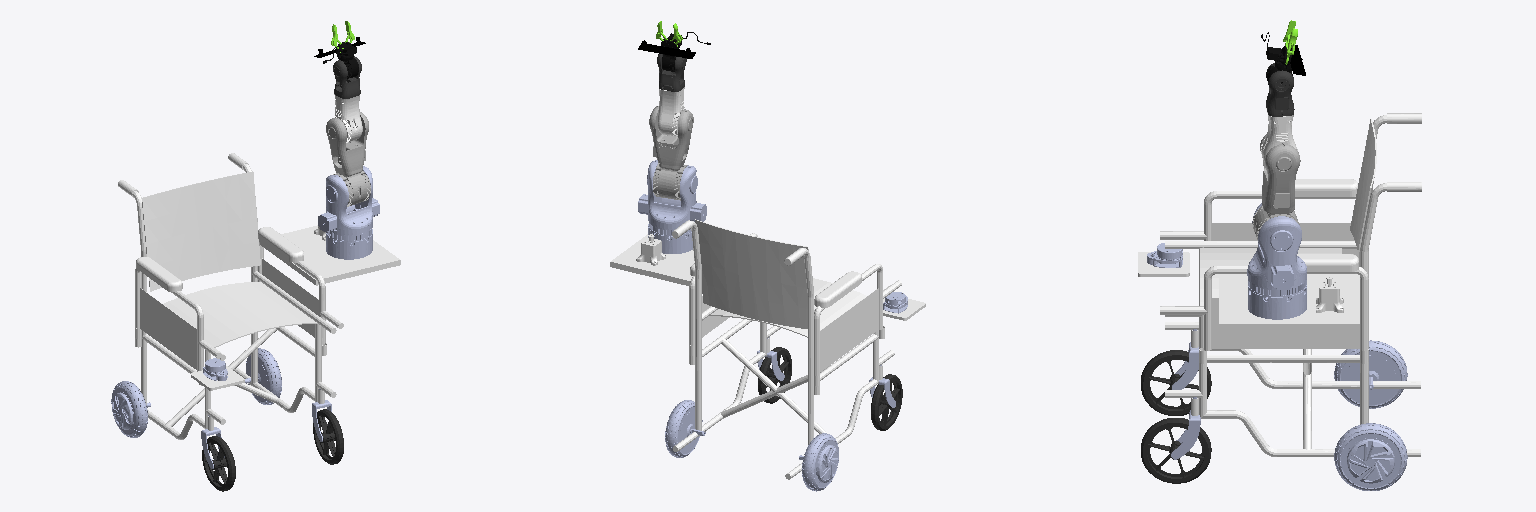
URDF robot description (wheel_robot):
<?xml version="1.0" encoding="utf-8"?>
<!-- This URDF was automatically created by SolidWorks to URDF Exporter! Originally created by Stephen Brawner (brawner@gmail.com) 
     Commit Version: 1.6.0-4-g7f85cfe  Build Version: 1.6.7995.38578
     For more information, please see http://wiki.ros.org/sw_urdf_exporter -->
<robot name="wheel_robot" xmlns:xacro="http://www.ros.org/wiki/xacro">
  <link name="base_link">
    <inertial>
      <origin xyz="0.034703 -0.030762 0.4133" rpy="0 0 0" />
      <mass value="29.169" />
      <inertia ixx="1.8151" ixy="6.2642E-05" ixz="-3.4057E-05" iyy="2.0404" iyz="-0.15331" izz="1.8019" />
    </inertial>
    <visual>
      <origin xyz="0 0 0" rpy="0 0 0" />
      <geometry>
        <mesh filename="package://my_robot_description/meshes/wheel_robot_meshes/base_link.STL" />
      </geometry>
      <material name="">
        <color rgba="1 1 1 1" />
      </material>
    </visual>
    <collision>
      <origin xyz="0 0 0" rpy="0 0 0" />
      <geometry>
        <mesh filename="package://my_robot_description/meshes/wheel_robot_meshes/base_link.STL" />
      </geometry>
    </collision>
  </link>
  <link name="base_arm_link">
    <inertial>
      <origin xyz="-1.3127E-05 2.693E-05 0.033518" rpy="0 0 0" />
      <mass value="4.8005" />
      <inertia ixx="0.010588" ixy="0.00016585" ixz="-3.0501E-07" iyy="0.0095576" iyz="-2.8798E-07" izz="0.0096309" />
    </inertial>
    <visual>
      <origin xyz="0 0 0" rpy="0 0 0" />
      <geometry>
        <mesh filename="package://my_robot_description/meshes/wheel_robot_meshes/base_arm_link.STL" />
      </geometry>
      <material name="">
        <color rgba="0.79216 0.81961 0.93333 1" />
      </material>
    </visual>
    <collision>
      <origin xyz="0 0 0" rpy="0 0 0" />
      <geometry>
        <mesh filename="package://my_robot_description/meshes/wheel_robot_meshes/base_arm_link.STL" />
      </geometry>
    </collision>
  </link>
  <joint name="base_arm_joint" type="continuous">
    <origin xyz="0.4509 -0.092225 0.72154" rpy="0 0 -1.5708" />
    <parent link="base_link" />
    <child link="base_arm_link" />
    <axis xyz="0 0 -1" />
  </joint>
  <link name="shoulder_link">
    <inertial>
      <origin xyz="-0.0031383 0.0013275 0.079004" rpy="0 0 0" />
      <mass value="1.9087" />
      <inertia ixx="0.0049688" ixy="1.8849E-05" ixz="7.3395E-05" iyy="0.0048564" iyz="2.1387E-05" izz="0.0028977" />
    </inertial>
    <visual>
      <origin xyz="0 0 0" rpy="0 0 0" />
      <geometry>
        <mesh filename="package://my_robot_description/meshes/wheel_robot_meshes/shoulder_link.STL" />
      </geometry>
      <material name="">
        <color rgba="0.75294 0.75294 0.75294 1" />
      </material>
    </visual>
    <collision>
      <origin xyz="0 0 0" rpy="0 0 0" />
      <geometry>
        <mesh filename="package://my_robot_description/meshes/wheel_robot_meshes/shoulder_link.STL" />
      </geometry>
    </collision>
  </link>
  <joint name="shoulder_joint" type="revolute">
    <origin xyz="0 0 0.1402" rpy="0 0 0" />
    <parent link="base_arm_link" />
    <child link="shoulder_link" />
    <axis xyz="0.15516 0.98789 0" />
    <limit lower="-1.8" upper="1.8" effort="0" velocity="0" />
  </joint>
  <link name="geared_link">
    <inertial>
      <origin xyz="-3.6626E-06 -0.00065071 0.037984" rpy="0 0 0" />
      <mass value="0.65465" />
      <inertia ixx="0.0016892" ixy="-4.2235E-05" ixz="3.7434E-07" iyy="0.0019515" iyz="-2.1176E-06" izz="0.00042425" />
    </inertial>
    <visual>
      <origin xyz="0 0 0" rpy="0 0 0" />
      <geometry>
        <mesh filename="package://my_robot_description/meshes/wheel_robot_meshes/geared_link.STL" />
      </geometry>
      <material name="">
        <color rgba="1 1 1 1" />
      </material>
    </visual>
    <collision>
      <origin xyz="0 0 0" rpy="0 0 0" />
      <geometry>
        <mesh filename="package://my_robot_description/meshes/wheel_robot_meshes/geared_link.STL" />
      </geometry>
    </collision>
  </link>
  <joint name="geared_joint" type="revolute">
    <origin xyz="-0.0079515 -0.0012489 0.22098" rpy="0 0 0" />
    <parent link="shoulder_link" />
    <child link="geared_link" />
    <axis xyz="-0.15516 0.98789 0" />
    <limit lower="-3.665" upper="3.665" effort="0" velocity="0" />
  </joint>
  <link name="arm_link">
    <inertial>
      <origin xyz="-0.0011585 0.010519 0.04396" rpy="0 0 0" />
      <mass value="0.61707" />
      <inertia ixx="0.00066348" ixy="1.0914E-05" ixz="9.9804E-06" iyy="0.0005735" iyz="5.7394E-07" izz="0.00036176" />
    </inertial>
    <visual>
      <origin xyz="0 0 0" rpy="0 0 0" />
      <geometry>
        <mesh filename="package://my_robot_description/meshes/wheel_robot_meshes/arm_link.STL" />
      </geometry>
      <material name="">
        <color rgba="0.29412 0.29412 0.29412 1" />
      </material>
    </visual>
    <collision>
      <origin xyz="0 0 0" rpy="0 0 0" />
      <geometry>
        <mesh filename="package://my_robot_description/meshes/wheel_robot_meshes/arm_link.STL" />
      </geometry>
    </collision>
  </link>
  <joint name="arm_link" type="continuous">
    <origin xyz="-6.4191E-05 -1.0082E-05 0.128" rpy="0 0 0" />
    <parent link="geared_link" />
    <child link="arm_link" />
    <axis xyz="0.00050149 7.8765E-05 -1" />
  </joint>
  <link name="wrist_link">
    <inertial>
      <origin xyz="-0.0029994 -0.00015876 0.013034" rpy="0 0 0" />
      <mass value="0.19056" />
      <inertia ixx="8.1806E-05" ixy="-3.6769E-06" ixz="4.5934E-06" iyy="0.00011282" iyz="3.3203E-07" izz="6.3586E-05" />
    </inertial>
    <visual>
      <origin xyz="0 0 0" rpy="0 0 0" />
      <geometry>
        <mesh filename="package://my_robot_description/meshes/wheel_robot_meshes/wrist_link.STL" />
      </geometry>
      <material name="">
        <color rgba="0.098039 0.098039 0.098039 1" />
      </material>
    </visual>
    <collision>
      <origin xyz="0 0 0" rpy="0 0 0" />
      <geometry>
        <mesh filename="package://my_robot_description/meshes/wheel_robot_meshes/wrist_link.STL" />
      </geometry>
    </collision>
  </link>
  <joint name="wrist_joint" type="revolute">
    <origin xyz="0.00010752 -0.00099537 0.095" rpy="0 0 0" />
    <parent link="arm_link" />
    <child link="wrist_link" />
    <axis xyz="-0.12076 0.99268 1.763E-05" />
    <limit lower="-3.14" upper="3.14" effort="0" velocity="0" />
  </joint>
  <link name="gripper_link">
    <inertial>
      <origin xyz="-0.0024423 -0.00039792 0.066784" rpy="0 0 0" />
      <mass value="0.033769" />
      <inertia ixx="1.0235E-05" ixy="5.8578E-08" ixz="1.9498E-06" iyy="9.7559E-06" iyz="2.3938E-07" izz="2.7885E-06" />
    </inertial>
    <visual>
      <origin xyz="0 0 0" rpy="0 0 0" />
      <geometry>
        <mesh filename="package://my_robot_description/meshes/wheel_robot_meshes/gripper_link.STL" />
      </geometry>
      <material name="">
        <color rgba="0.6 1 0.27843 1" />
      </material>
    </visual>
    <collision>
      <origin xyz="0 0 0" rpy="0 0 0" />
      <geometry>
        <mesh filename="package://my_robot_description/meshes/wheel_robot_meshes/gripper_link.STL" />
      </geometry>
    </collision>
  </link>
  <joint name="gripper_joint" type="prismatic">
    <origin xyz="-0.022909 -0.0027874 0.036528" rpy="0 0 0" />
    <parent link="wrist_link" />
    <child link="gripper_link" />
    <axis xyz="0.12076 -0.99268 -1.763E-05" />
    <limit lower="0" upper="0" effort="0" velocity="0" />
  </joint>
  <link name="camera_link">
    <inertial>
      <origin xyz="-0.00092571 -0.00011265 0.002395" rpy="0 0 0" />
      <mass value="0.021726" />
      <inertia ixx="9.1161E-05" ixy="1.078E-05" ixz="-1.9517E-07" iyy="3.8546E-06" iyz="-2.5353E-08" izz="9.3219E-05" />
    </inertial>
    <visual>
      <origin xyz="0 0 0" rpy="0 0 0" />
      <geometry>
        <mesh filename="package://my_robot_description/meshes/wheel_robot_meshes/camera_link.STL" />
      </geometry>
      <material name="">
        <color rgba="0 0 0 1" />
      </material>
    </visual>
    <collision>
      <origin xyz="0 0 0" rpy="0 0 0" />
      <geometry>
        <mesh filename="package://my_robot_description/meshes/wheel_robot_meshes/camera_link.STL" />
      </geometry>
    </collision>
  </link>
  <joint name="camera_joint" type="fixed">
    <origin xyz="-0.040904 -0.0049768 0.054707" rpy="0 0 0" />
    <parent link="wrist_link" />
    <child link="camera_link" />
    <axis xyz="0 0 0" />
  </joint>
  <link name="rb_link">
    <inertial>
      <origin xyz="4.8728E-06 0.03315 -2.4291E-12" rpy="0 0 0" />
      <mass value="1.6462" />
      <inertia ixx="0.0038177" ixy="-4.488E-07" ixz="3.5076E-10" iyy="0.0068489" iyz="-1.6695E-14" izz="0.0038176" />
    </inertial>
    <visual>
      <origin xyz="0 0 0" rpy="0 0 0" />
      <geometry>
        <mesh filename="package://my_robot_description/meshes/wheel_robot_meshes/rb_link.STL" />
      </geometry>
      <material name="">
        <color rgba="0.79608 0.82353 0.93725 1" />
      </material>
    </visual>
    <collision>
      <origin xyz="0 0 0" rpy="0 0 0" />
      <geometry>
        <mesh filename="package://my_robot_description/meshes/wheel_robot_meshes/rb_link.STL" />
      </geometry>
    </collision>
  </link>
  <joint name="rb_joint" type="continuous">
    <origin xyz="-0.29763 0.15869 0.098" rpy="0 0 -1.5708" />
    <parent link="base_link" />
    <child link="rb_link" />
    <axis xyz="0 1 0" />
  </joint>
  <link name="lb_link">
    <inertial>
      <origin xyz="4.8728E-06 -0.03315 2.4291E-12" rpy="0 0 0" />
      <mass value="1.6462" />
      <inertia ixx="0.0038177" ixy="4.488E-07" ixz="-3.5076E-10" iyy="0.0068489" iyz="-1.6694E-14" izz="0.0038176" />
    </inertial>
    <visual>
      <origin xyz="0 0 0" rpy="0 0 0" />
      <geometry>
        <mesh filename="package://my_robot_description/meshes/wheel_robot_meshes/lb_link.STL" />
      </geometry>
      <material name="">
        <color rgba="0.79608 0.82353 0.93725 1" />
      </material>
    </visual>
    <collision>
      <origin xyz="0 0 0" rpy="0 0 0" />
      <geometry>
        <mesh filename="package://my_robot_description/meshes/wheel_robot_meshes/lb_link.STL" />
      </geometry>
    </collision>
  </link>
  <joint name="lb_joint" type="continuous">
    <origin xyz="0.29763 0.15869 0.098" rpy="0 0 -1.5708" />
    <parent link="base_link" />
    <child link="lb_link" />
    <axis xyz="0 1 0" />
  </joint>
  <link name="rcaster_link">
    <inertial>
      <origin xyz="0.0084911 6.2993E-08 -0.020801" rpy="0 0 0" />
      <mass value="0.066356" />
      <inertia ixx="0.00015145" ixy="-3.706E-11" ixz="3.0557E-05" iyy="0.00014025" iyz="-3.2899E-11" izz="4.1434E-05" />
    </inertial>
    <visual>
      <origin xyz="0 0 0" rpy="0 0 0" />
      <geometry>
        <mesh filename="package://my_robot_description/meshes/wheel_robot_meshes/rcaster_link.STL" />
      </geometry>
      <material name="">
        <color rgba="0.79216 0.81961 0.93333 1" />
      </material>
    </visual>
    <collision>
      <origin xyz="0 0 0" rpy="0 0 0" />
      <geometry>
        <mesh filename="package://my_robot_description/meshes/wheel_robot_meshes/rcaster_link.STL" />
      </geometry>
    </collision>
  </link>
  <joint name="rcaster_joint" type="continuous">
    <origin xyz="-0.2159 -0.31274 0.2032" rpy="0 0 -1.5414" />
    <parent link="base_link" />
    <child link="rcaster_link" />
    <axis xyz="0 0 -1" />
  </joint>
  <link name="rcaster_wheel_link">
    <inertial>
      <origin xyz="-0.00088601 0.030149 -1.1102E-16" rpy="0 0 0" />
      <mass value="0.29095" />
      <inertia ixx="0.00088078" ixy="-2.4602E-05" ixz="-4.4595E-19" iyy="0.0017172" iyz="3.2164E-20" izz="0.00088006" />
    </inertial>
    <visual>
      <origin xyz="0 0 0" rpy="0 0 0" />
      <geometry>
        <mesh filename="package://my_robot_description/meshes/wheel_robot_meshes/rcaster_wheel_link.STL" />
      </geometry>
      <material name="">
        <color rgba="0.25098 0.25098 0.25098 1" />
      </material>
    </visual>
    <collision>
      <origin xyz="0 0 0" rpy="0 0 0" />
      <geometry>
        <mesh filename="package://my_robot_description/meshes/wheel_robot_meshes/rcaster_wheel_link.STL" />
      </geometry>
    </collision>
  </link>
  <joint name="rcaster_wheel_joint" type="continuous">
    <origin xyz="0.0508 -0.030163 -0.10795" rpy="0 0 -0.029379" />
    <parent link="rcaster_link" />
    <child link="rcaster_wheel_link" />
    <axis xyz="0.029375 0.99957 0" />
  </joint>
  <link name="lcaster_link">
    <inertial>
      <origin xyz="0.0084911 6.9542E-08 -0.020801" rpy="0 0 0" />
      <mass value="0.066356" />
      <inertia ixx="0.00015145" ixy="-3.8993E-11" ixz="3.0557E-05" iyy="0.00014025" iyz="-4.9722E-11" izz="4.1434E-05" />
    </inertial>
    <visual>
      <origin xyz="0 0 0" rpy="0 0 0" />
      <geometry>
        <mesh filename="package://my_robot_description/meshes/wheel_robot_meshes/lcaster_link.STL" />
      </geometry>
      <material name="">
        <color rgba="0.79216 0.81961 0.93333 1" />
      </material>
    </visual>
    <collision>
      <origin xyz="0 0 0" rpy="0 0 0" />
      <geometry>
        <mesh filename="package://my_robot_description/meshes/wheel_robot_meshes/lcaster_link.STL" />
      </geometry>
    </collision>
  </link>
  <joint name="lcaster_joint" type="continuous">
    <origin xyz="0.2159 -0.31274 0.2032" rpy="0 0 -1.6081" />
    <parent link="base_link" />
    <child link="lcaster_link" />
    <axis xyz="0 0 -1" />
  </joint>
  <link name="lcaster_wheel_link">
    <inertial>
      <origin xyz="1.4572E-16 -0.030162 -5.5511E-17" rpy="0 0 0" />
      <mass value="0.29095" />
      <inertia ixx="0.00088006" ixy="5.1838E-19" ixz="3.4931E-21" iyy="0.001718" iyz="-4.8105E-20" izz="0.00088006" />
    </inertial>
    <visual>
      <origin xyz="0 0 0" rpy="0 0 0" />
      <geometry>
        <mesh filename="package://my_robot_description/meshes/wheel_robot_meshes/lcaster_wheel_link.STL" />
      </geometry>
      <material name="">
        <color rgba="0.25098 0.25098 0.25098 1" />
      </material>
    </visual>
    <collision>
      <origin xyz="0 0 0" rpy="0 0 0" />
      <geometry>
        <mesh filename="package://my_robot_description/meshes/wheel_robot_meshes/lcaster_wheel_link.STL" />
      </geometry>
    </collision>
  </link>
  <joint name="lcaster_wheel_joint" type="continuous">
    <origin xyz="0.0508 0.030163 -0.10795" rpy="0 0 0" />
    <parent link="lcaster_link" />
    <child link="lcaster_wheel_link" />
    <axis xyz="0 1 0" />
  </joint>
  <link name="lidar_link">
    <inertial>
      <origin xyz="-0.0050072 -0.00071908 0.026735" rpy="0 0 0" />
      <mass value="0.073084" />
      <inertia ixx="1.9594E-05" ixy="-2.7283E-07" ixz="-4.2841E-07" iyy="2.4111E-05" iyz="-6.5248E-09" izz="4.1418E-05" />
    </inertial>
    <visual>
      <origin xyz="0 0 0" rpy="0 0 0" />
      <geometry>
        <mesh filename="package://my_robot_description/meshes/wheel_robot_meshes/lidar_link.STL" />
      </geometry>
      <material name="">
        <color rgba="0.79216 0.81961 0.93333 1" />
      </material>
    </visual>
    <collision>
      <origin xyz="0 0 0" rpy="0 0 0" />
      <geometry>
        <mesh filename="package://my_robot_description/meshes/wheel_robot_meshes/lidar_link.STL" />
      </geometry>
    </collision>
  </link>
  <joint name="lidar_joint" type="fixed">
    <origin xyz="-0.23863 -0.39702 0.43" rpy="0 0 -1.6081" />
    <parent link="base_link" />
    <child link="lidar_link" />
    <axis xyz="0 0 0" />
  </joint>
</robot>

--- What the picture shows (computed from the rendered views, not written in the file) ---
Views: 3 orthographic renders of the robot side by side, from view 1: azimuth 30°, elevation 25°; view 2: azimuth 150°, elevation 25°; view 3: azimuth 270°, elevation 25°.
Robot: wheel_robot — 15 links, 14 joints (3 revolute, 8 continuous, 1 prismatic, 2 fixed); root link base_link; default pose: every joint at zero.
Links seen in each view (by area): view 1: base_link, base_arm_link, shoulder_link, rb_link, rcaster_wheel_link, lcaster_wheel_link, lb_link, geared_link, arm_link, wrist_link; view 2: base_link, base_arm_link, shoulder_link, rb_link, lb_link, rcaster_wheel_link, geared_link, lcaster_wheel_link, arm_link; view 3: base_link, base_arm_link, lb_link, rb_link, shoulder_link, lcaster_wheel_link, rcaster_wheel_link, arm_link, geared_link, lidar_link, lcaster_link, rcaster_link (+1 smaller).
Boxes of the visible links, <box> form: base_link: <box>118,153,400,439</box>; base_arm_link: <box>318,166,379,259</box>; shoulder_link: <box>326,112,370,206</box>; rb_link: <box>111,381,150,437</box>; rcaster_wheel_link: <box>202,436,235,491</box>; lcaster_wheel_link: <box>313,409,343,464</box>; lb_link: <box>245,348,281,404</box>; geared_link: <box>334,94,362,142</box>; arm_link: <box>333,56,361,98</box>; wrist_link: <box>323,42,358,78</box>; base_link: <box>610,219,925,479</box>; base_arm_link: <box>638,160,706,253</box>; shoulder_link: <box>649,106,693,200</box>; rb_link: <box>799,433,838,491</box>; lb_link: <box>665,400,705,457</box>; rcaster_wheel_link: <box>871,374,902,430</box>; geared_link: <box>658,87,684,136</box>; lcaster_wheel_link: <box>758,347,791,403</box>; arm_link: <box>657,54,686,91</box>; base_link: <box>1138,113,1421,456</box>; base_arm_link: <box>1247,203,1306,319</box>; lb_link: <box>1334,423,1407,490</box>; rb_link: <box>1334,340,1407,408</box>; shoulder_link: <box>1252,134,1300,239</box>; lcaster_wheel_link: <box>1141,418,1211,483</box>; rcaster_wheel_link: <box>1141,350,1211,415</box>; arm_link: <box>1266,63,1294,116</box>; geared_link: <box>1261,108,1297,161</box>; lidar_link: <box>1147,243,1182,267</box>; lcaster_link: <box>1171,397,1200,459</box>; rcaster_link: <box>1172,329,1198,389</box>.
Bounding box of the posed robot: 0.8738 × 0.7638 × 1.46 m (x, y, z).
15 mesh visuals loaded from 15 distinct referenced files (15 binary STL).
